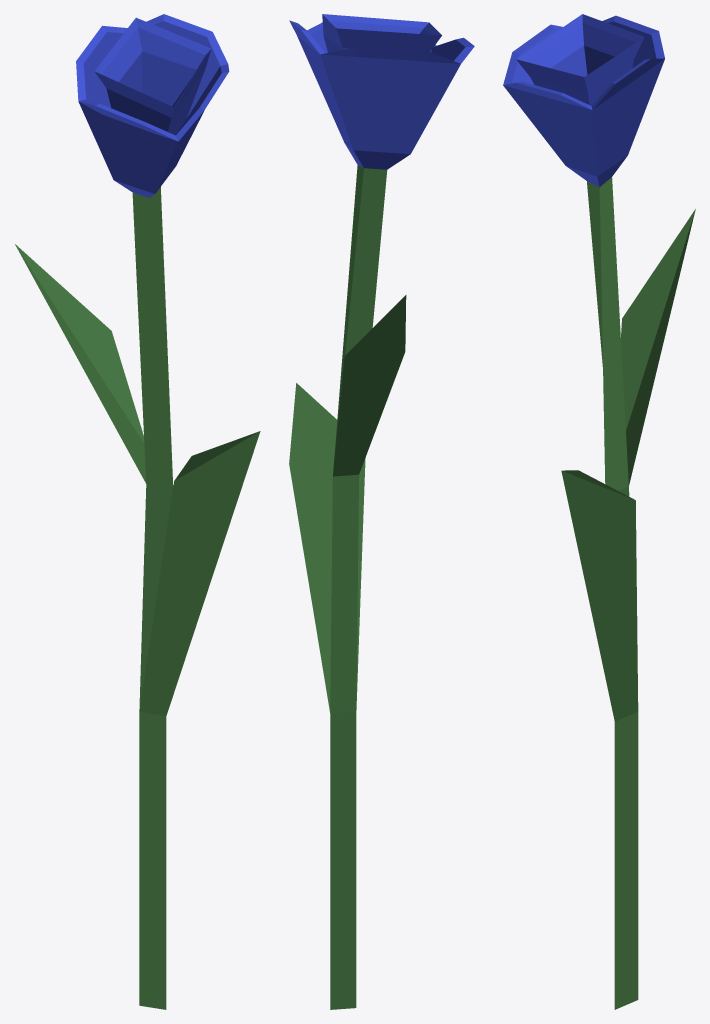
File: flowertulipan02.gltf
The picture shows the model from 3 angles, left to right: view 1: azimuth 30°, elevation 25°; view 2: azimuth 150°, elevation 25°; view 3: azimuth 270°, elevation 25°; orthographic projection. The views are drawn at different scales.
Parts seen in each view (by area): view 1: Icosphere; view 2: Icosphere; view 3: Icosphere.
Boxes of the visible parts, bbox=[...] form: Icosphere: bbox=[15, 14, 260, 1009]; Icosphere: bbox=[289, 14, 474, 1009]; Icosphere: bbox=[503, 14, 695, 1009].
Size of the model in its own units: 0.1253 by 0.6641 by 0.1202.
Materials: 1 (1 with a texture image).
